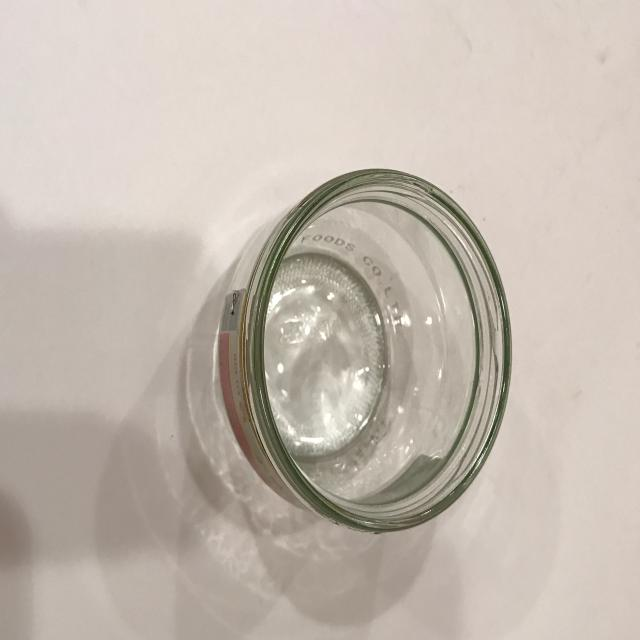glass: (208, 155, 524, 561)
